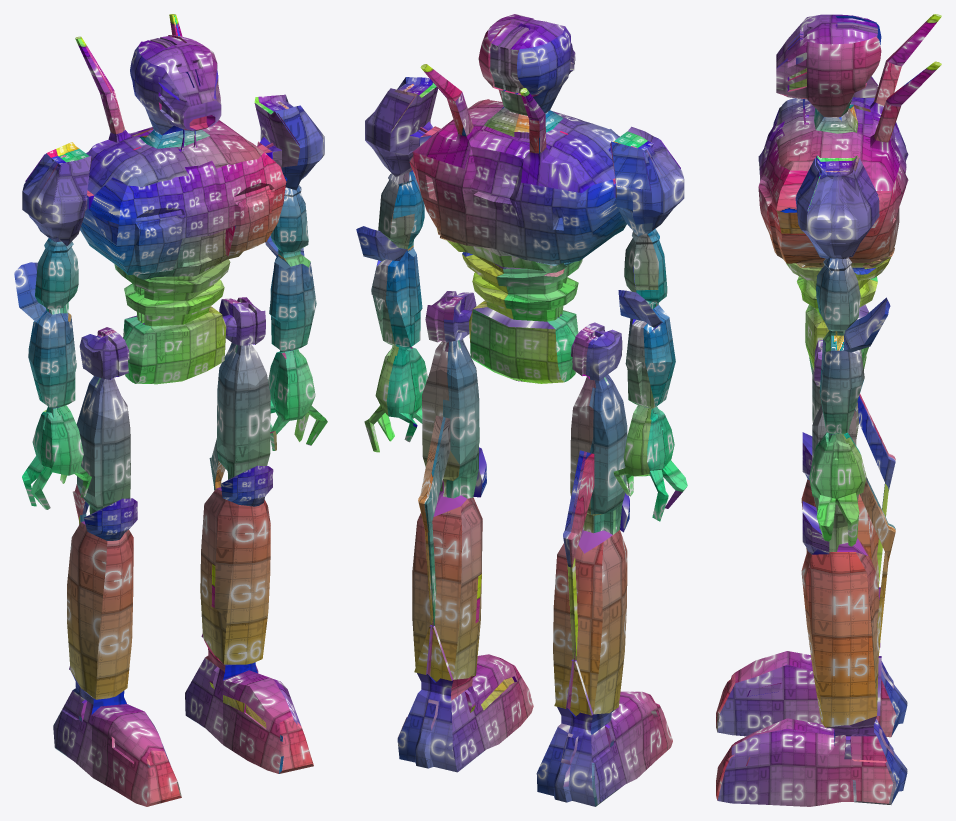
Rendered from UVMapRobot.obj.
The picture shows the model from 3 angles, left to right: view 1: azimuth 30°, elevation 25°; view 2: azimuth 150°, elevation 25°; view 3: azimuth 270°, elevation 25°; orthographic projection. The views are drawn at different scales.
Visible parts, largest first — view 1: pCube3; view 2: pCube3; view 3: pCube3.
Part boxes in pixels (<box>): pCube3: <box>14,14,327,806</box>; pCube3: <box>356,14,687,806</box>; pCube3: <box>716,14,941,806</box>.
Size of the model in its own units: 10.99 by 25.09 by 6.97.
Materials: 1 (1 with a texture image).
